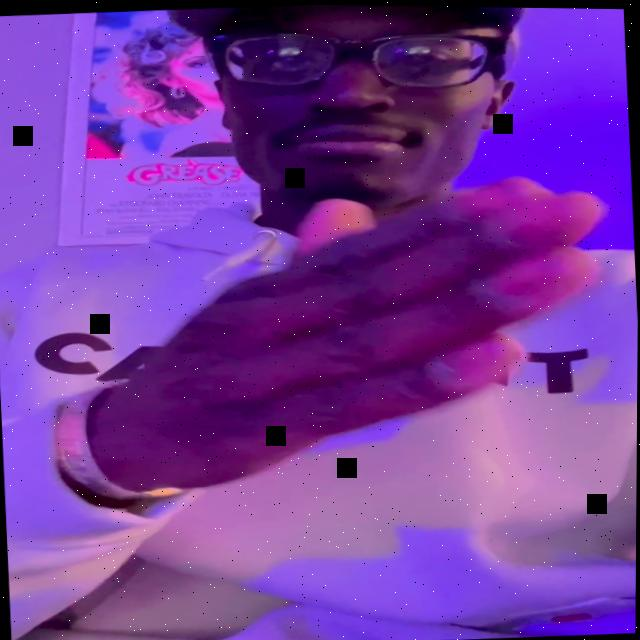Paper: (77, 161, 626, 497)
